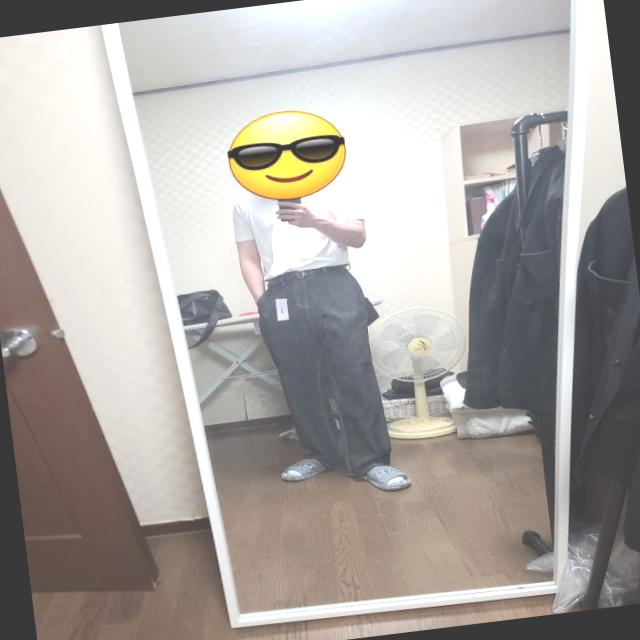denimpants: (252, 256, 396, 486)
shortsleeve: (228, 173, 370, 280)
